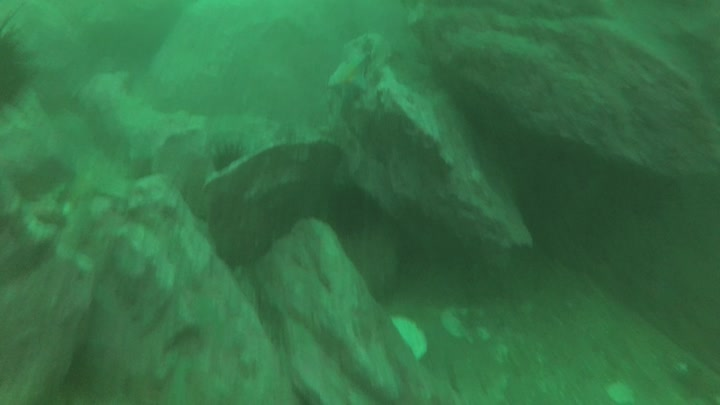echinus: (1, 13, 36, 131), (207, 140, 250, 177)
